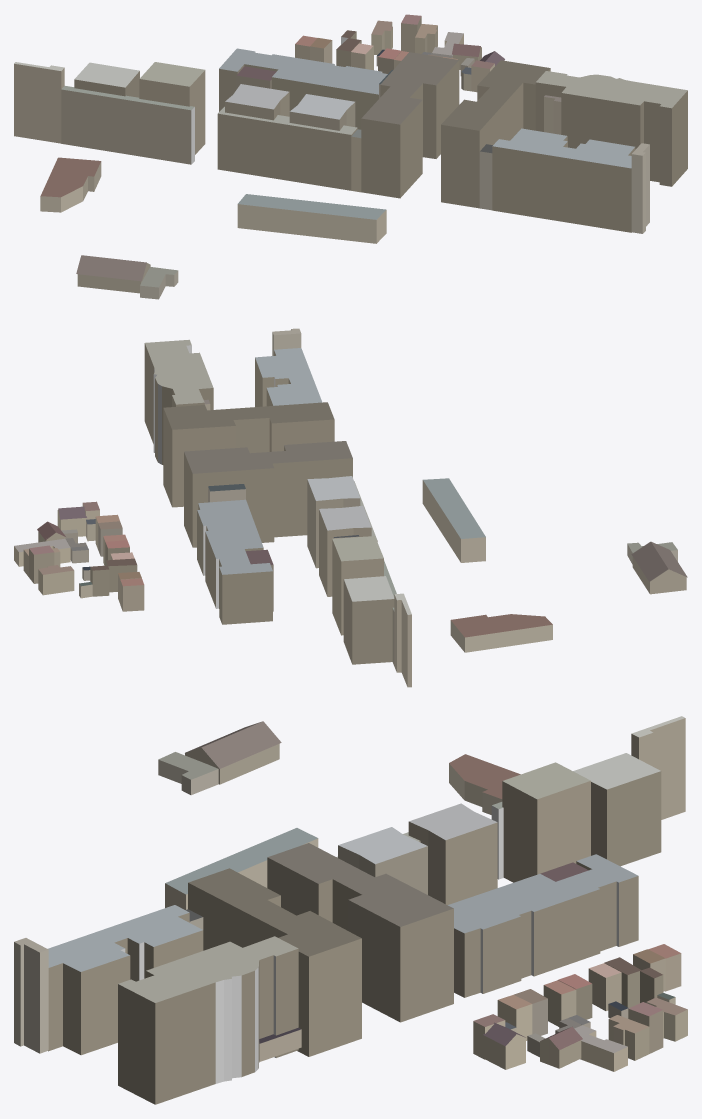
The picture shows the model from 3 angles, top to bottom: view 1: azimuth 30°, elevation 25°; view 2: azimuth 150°, elevation 25°; view 3: azimuth 270°, elevation 25°; orthographic projection. The views are drawn at different scales.
Visible parts, largest first — view 1: tuile; view 2: tuile; view 3: tuile.
Boxes of the visible parts, x1,y1,x2,y2 form: tuile: (14, 14, 687, 299); tuile: (14, 328, 687, 687); tuile: (14, 716, 687, 1104).
Bounding box in the file's own units: 210 × 28.26 × 164.
